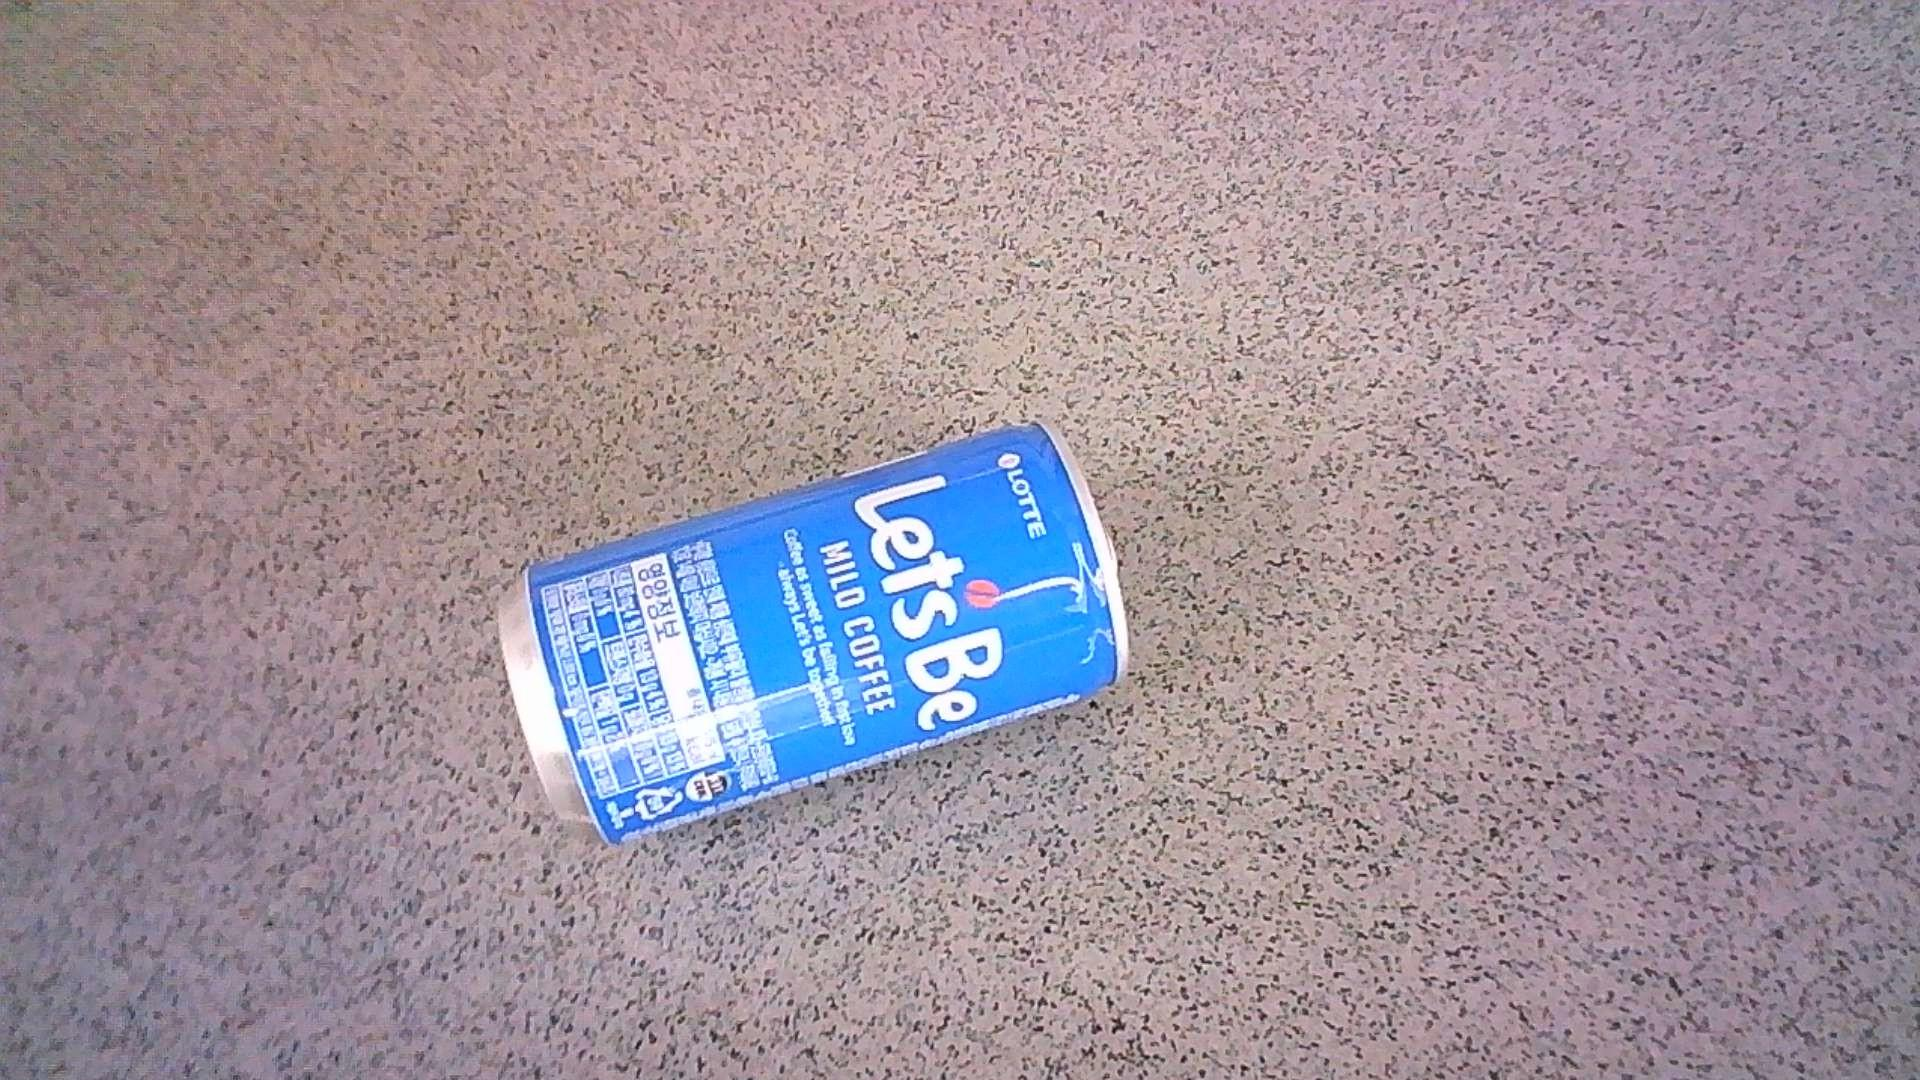letsbe: (496, 418, 1129, 847)
